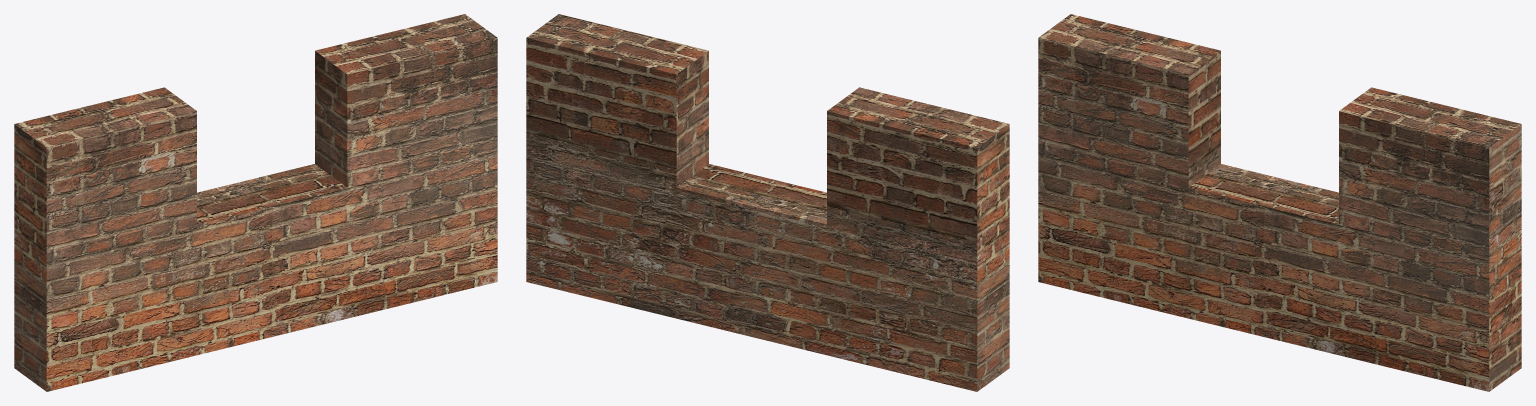
Rendered from obstacle.FBX.
The picture shows the model from 3 angles, left to right: view 1: azimuth 30°, elevation 25°; view 2: azimuth 150°, elevation 25°; view 3: azimuth 330°, elevation 25°; orthographic projection.
Parts seen in each view (by area): view 1: obstacle; view 2: obstacle; view 3: obstacle.
Boxes of the visible parts, <box> form: obstacle: <box>14,14,497,391</box>; obstacle: <box>526,14,1009,391</box>; obstacle: <box>1038,14,1521,391</box>.
Bounding box in the file's own units: 80 × 41.39 × 10.
